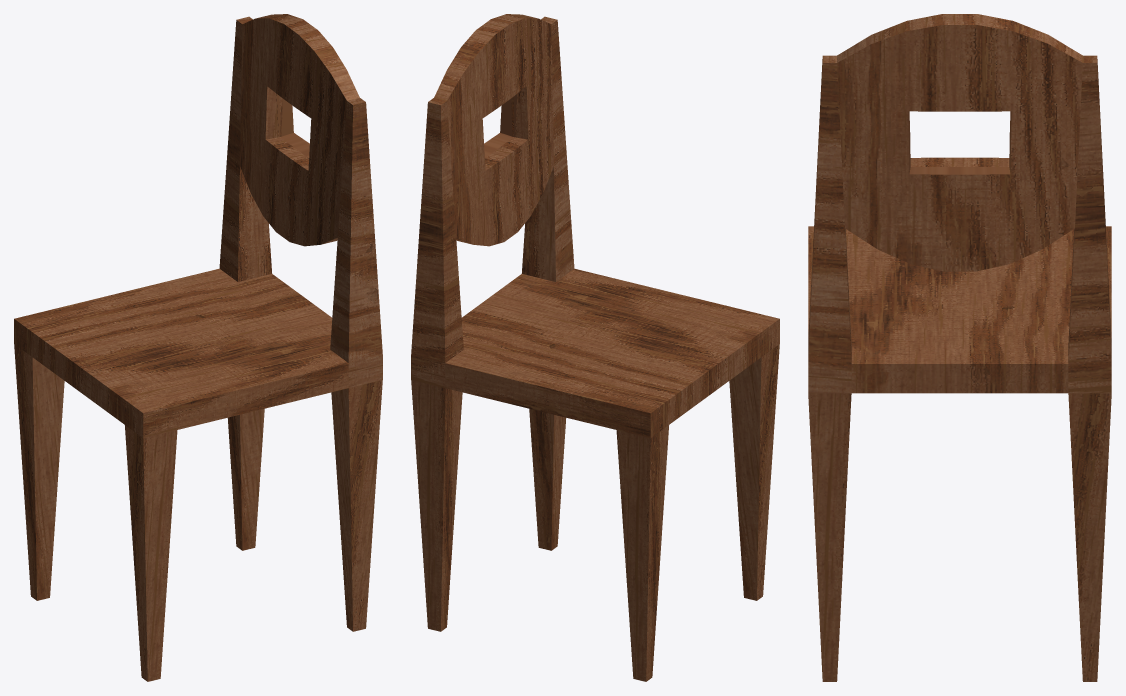
Rendered from FirstChair.fbx.
3 views of the same model, side by side, from view 1: azimuth 30°, elevation 25°; view 2: azimuth 150°, elevation 25°; view 3: azimuth 270°, elevation 25° (orthographic). The views are drawn at different scales.
Parts seen in each view (by area): view 1: Box001; view 2: Box001; view 3: Box001.
Part boxes in pixels (<box>): Box001: <box>14,14,382,681</box>; Box001: <box>411,14,779,681</box>; Box001: <box>808,14,1111,681</box>.
Bounding box in the file's own units: 45.23 × 101 × 42.
